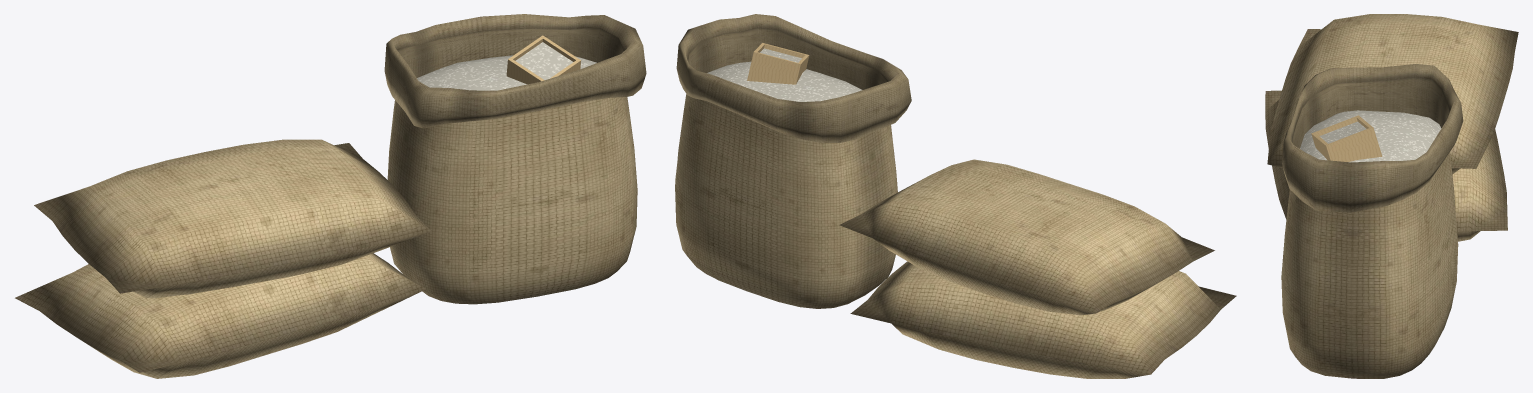
File: ricesacks.glb
The picture shows the model from 3 angles, left to right: view 1: azimuth 30°, elevation 25°; view 2: azimuth 150°, elevation 25°; view 3: azimuth 270°, elevation 25°; orthographic projection. The views are drawn at different scales.
Parts seen in each view (by area): view 1: RiceSackOpen, RiceSack1, RiceSack0, RiceSackCuff, RiceSackIn, RiceSackRice, RiceMasu, RiceMasuRice; view 2: RiceSackOpen, RiceSack1, RiceSack0, RiceSackCuff, RiceSackIn, RiceSackRice, RiceMasu; view 3: RiceSackOpen, RiceSack1, RiceSackCuff, RiceSackIn, RiceSack0, RiceSackRice, RiceMasu, RiceMasuRice.
Part boxes in pixels (x1,y1,x2,y2): RiceSackOpen: [387, 97, 637, 304]; RiceSack1: [34, 139, 431, 298]; RiceSack0: [15, 253, 426, 378]; RiceSackCuff: [384, 14, 646, 128]; RiceSackIn: [397, 28, 624, 77]; RiceSackRice: [417, 55, 596, 90]; RiceMasu: [506, 35, 580, 84]; RiceMasuRice: [515, 42, 573, 79]; RiceSackOpen: [675, 94, 897, 308]; RiceSack1: [839, 159, 1214, 315]; RiceSack0: [850, 261, 1236, 378]; RiceSackCuff: [676, 14, 911, 143]; RiceSackIn: [688, 27, 888, 89]; RiceSackRice: [707, 61, 862, 101]; RiceMasu: [747, 43, 809, 84]; RiceSackOpen: [1281, 152, 1458, 378]; RiceSack1: [1267, 14, 1518, 174]; RiceSackCuff: [1282, 64, 1463, 212]; RiceSackIn: [1292, 76, 1449, 148]; RiceSack0: [1265, 90, 1507, 241]; RiceSackRice: [1300, 110, 1441, 162]; RiceMasu: [1311, 115, 1382, 161]; RiceMasuRice: [1319, 121, 1366, 143].
Bounding box in the file's own units: 1.12 × 0.4505 × 0.4409.
Materials: 4 (4 with a texture image).
